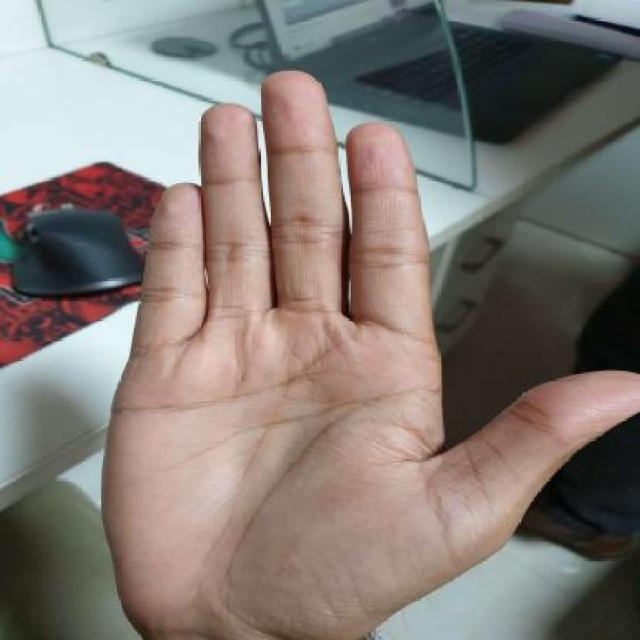no-gloves: (77, 60, 638, 640)
